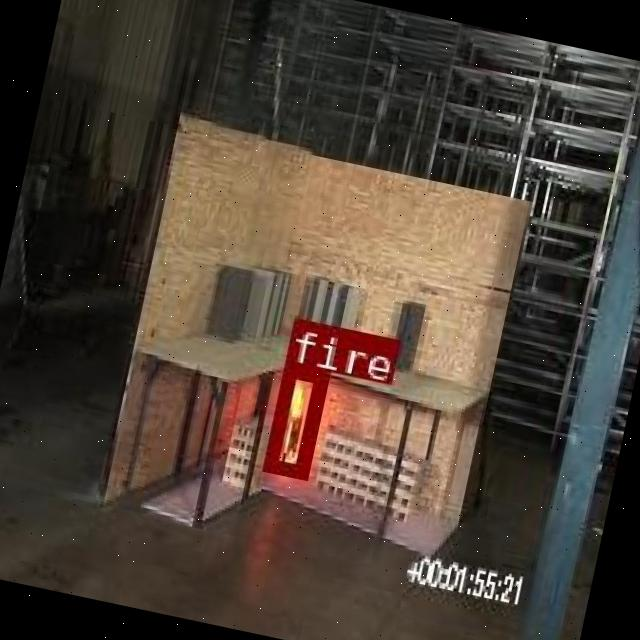fire: (261, 361, 325, 476)
